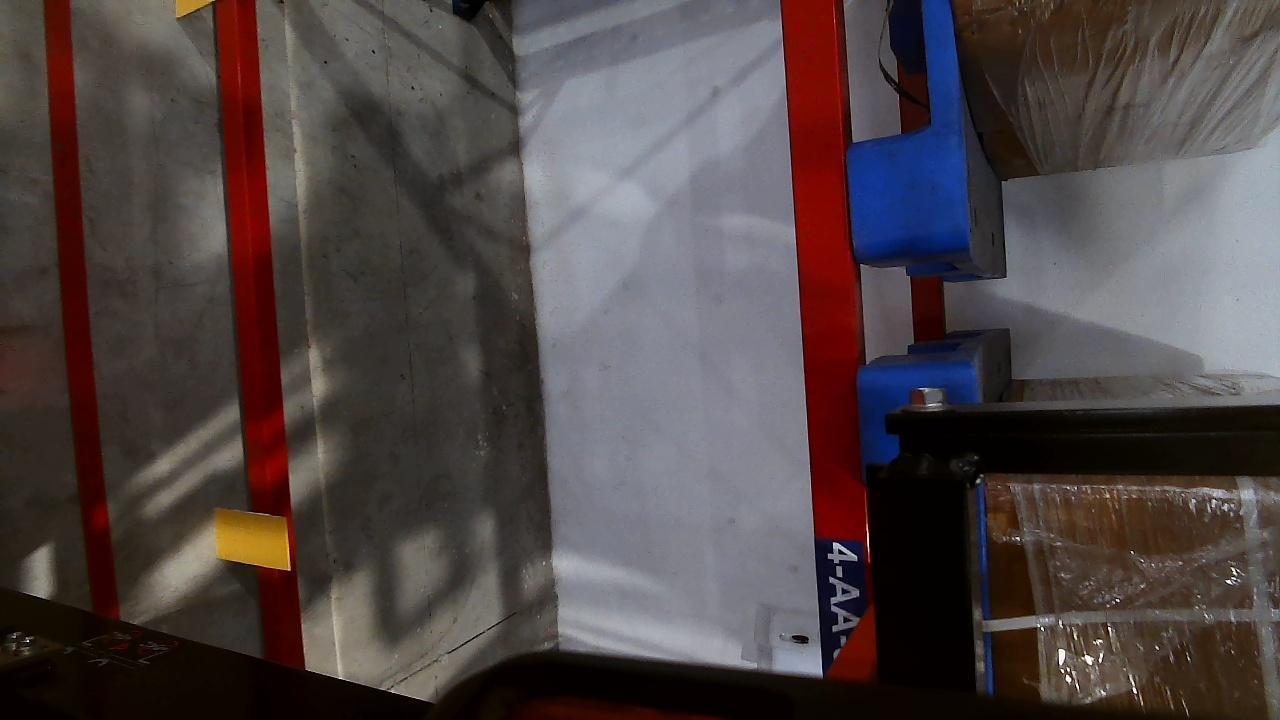red_line: (38, 0, 115, 612)
